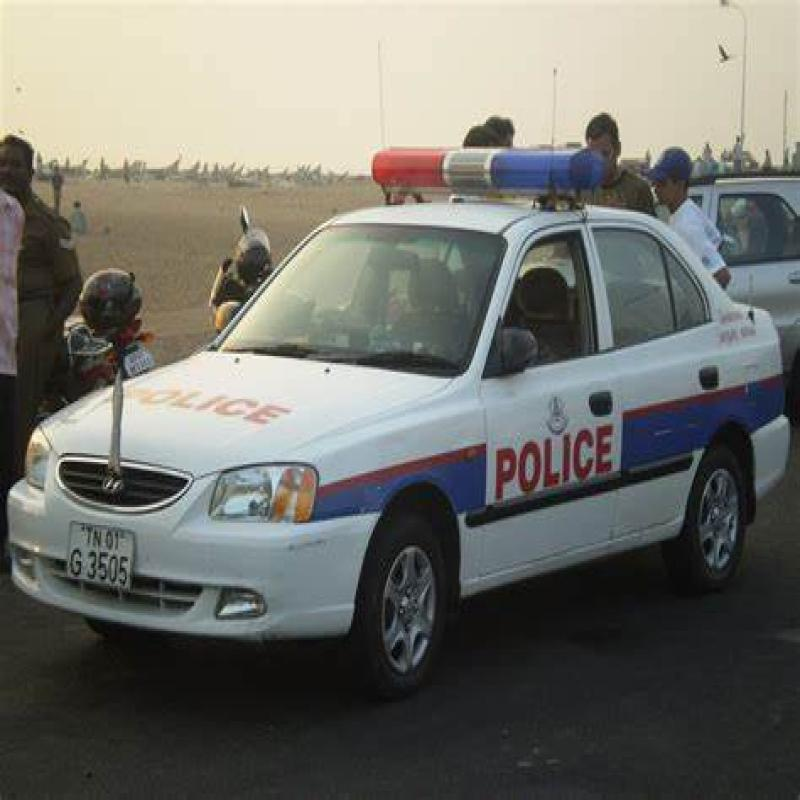AmbulanceSiren: (368, 126, 639, 219)
